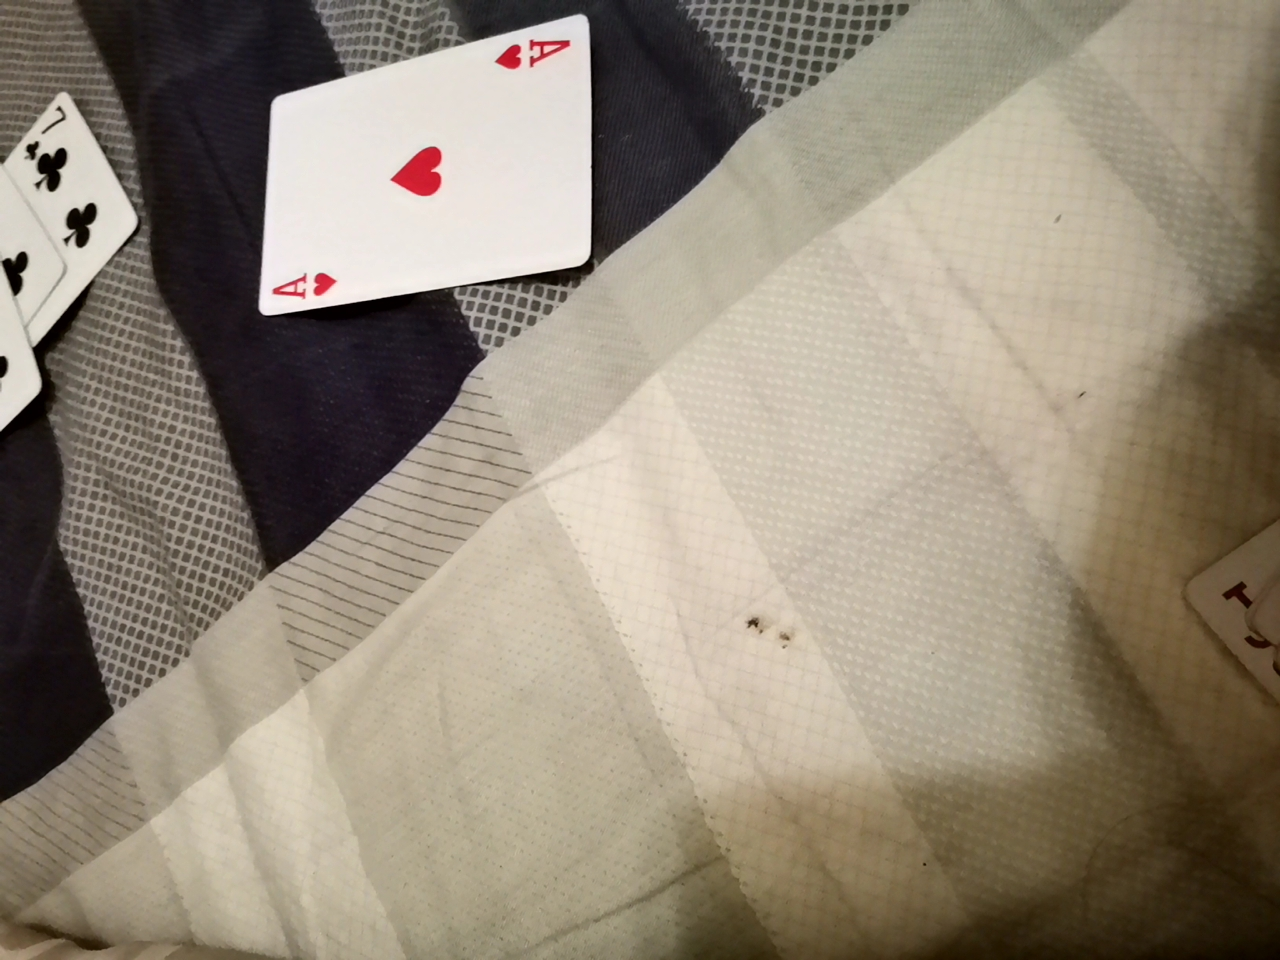hx a: (222, 40, 612, 321)
